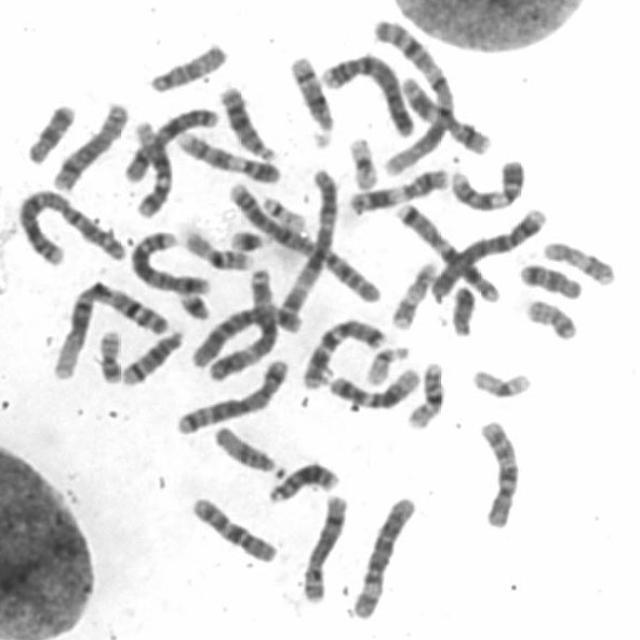A1: (369, 12, 462, 179), (47, 273, 174, 382)
A2: (223, 175, 387, 305), (12, 180, 132, 266)
A3: (274, 161, 342, 331), (203, 262, 281, 382)
B4: (425, 201, 551, 302), (317, 45, 419, 138)
B5: (172, 351, 294, 436), (126, 222, 215, 296)
C10: (186, 488, 284, 564), (474, 412, 526, 530)
C11: (398, 68, 496, 156), (345, 160, 453, 215)
C12: (325, 360, 425, 411), (129, 114, 177, 220)
C6: (347, 488, 422, 620), (190, 290, 286, 371)
C7: (391, 194, 506, 304), (298, 310, 392, 390)
C8: (48, 94, 133, 194), (298, 486, 354, 604)
C9: (172, 124, 285, 184), (445, 150, 531, 213)
D13: (215, 77, 282, 162), (265, 453, 345, 505)
D14: (286, 46, 340, 148), (117, 321, 189, 387)
D15: (144, 34, 232, 94), (210, 418, 286, 477)
E16: (178, 222, 258, 272), (403, 353, 450, 431)
E17: (538, 232, 620, 287), (387, 253, 442, 331)
E18: (23, 94, 80, 166), (516, 254, 587, 300)
F19: (467, 360, 537, 400), (344, 129, 384, 191)
F20: (521, 291, 583, 341), (94, 322, 125, 385)
G21: (225, 220, 276, 252), (174, 285, 215, 321)
G22: (361, 338, 413, 386), (256, 187, 310, 233)
X: (120, 98, 224, 184)
Y: (446, 276, 480, 337)
